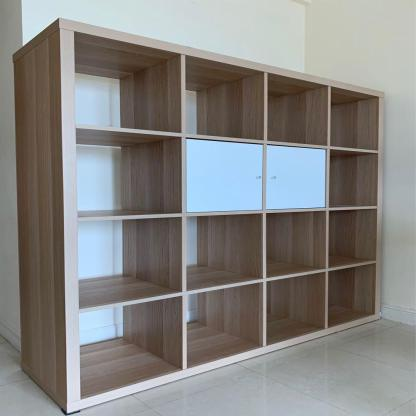lamp: (13, 16, 386, 416)
